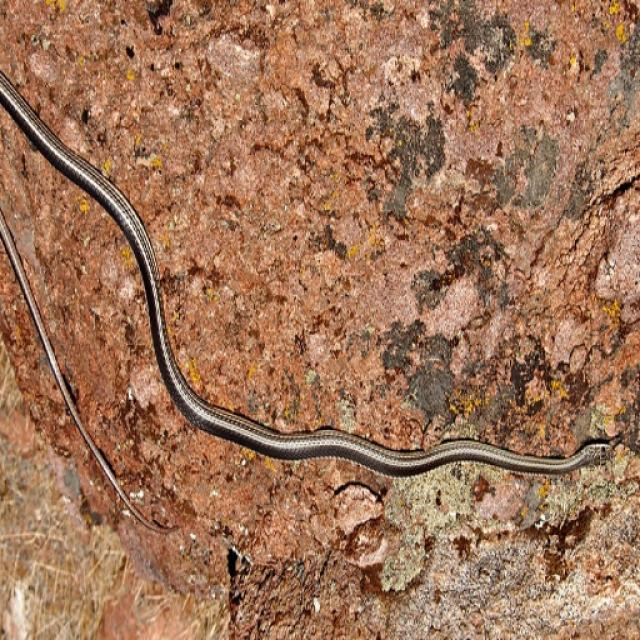snake: (0, 58, 618, 500)
